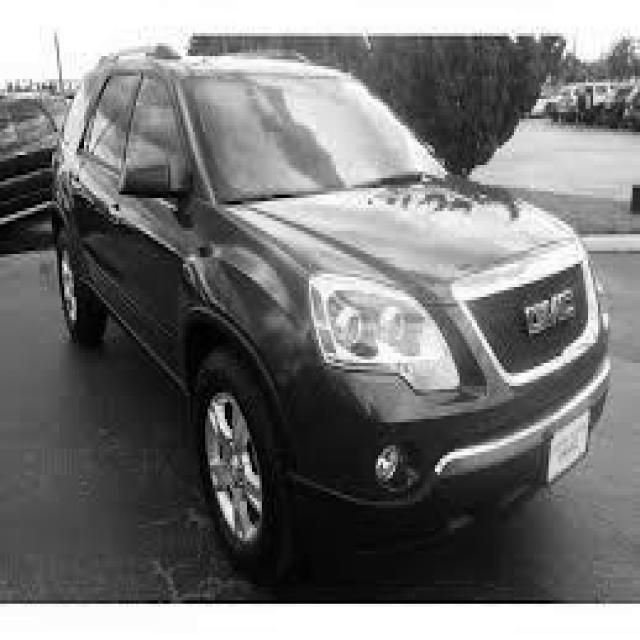car: (47, 40, 610, 584), (0, 89, 72, 244)
